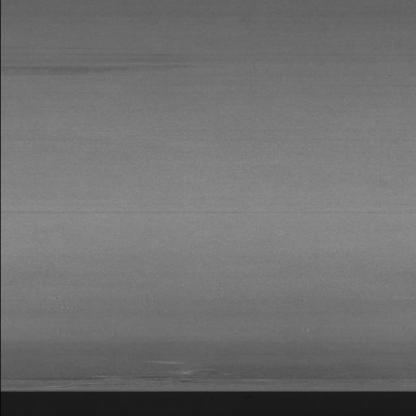silk_spot: (31, 346, 264, 390)
